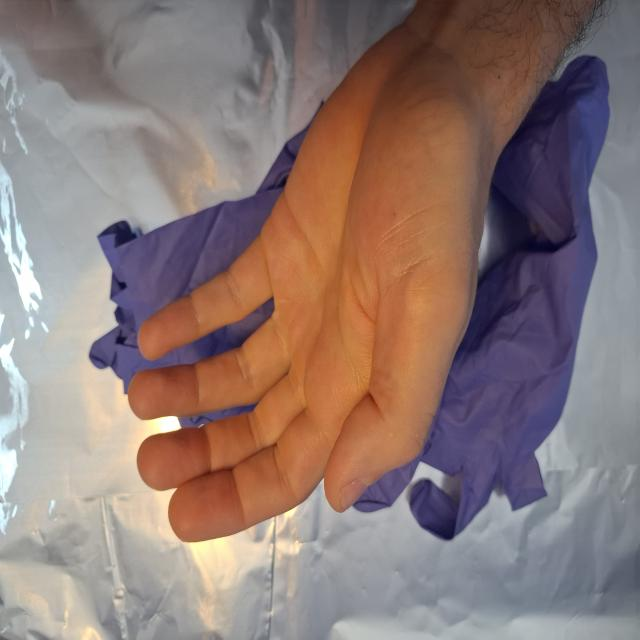glove_off: (126, 5, 512, 547)
